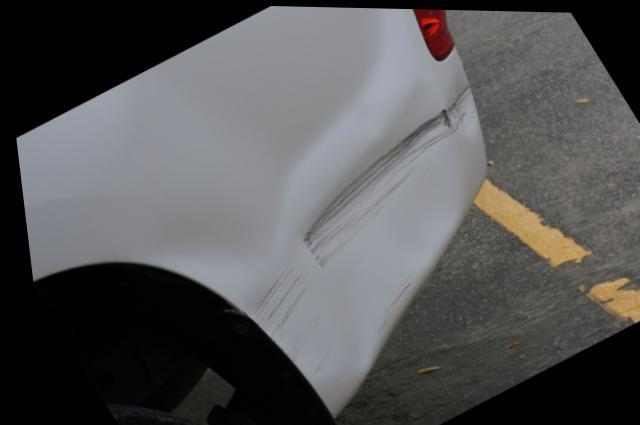dent: (137, 5, 470, 373)
scratch: (239, 256, 326, 378)
